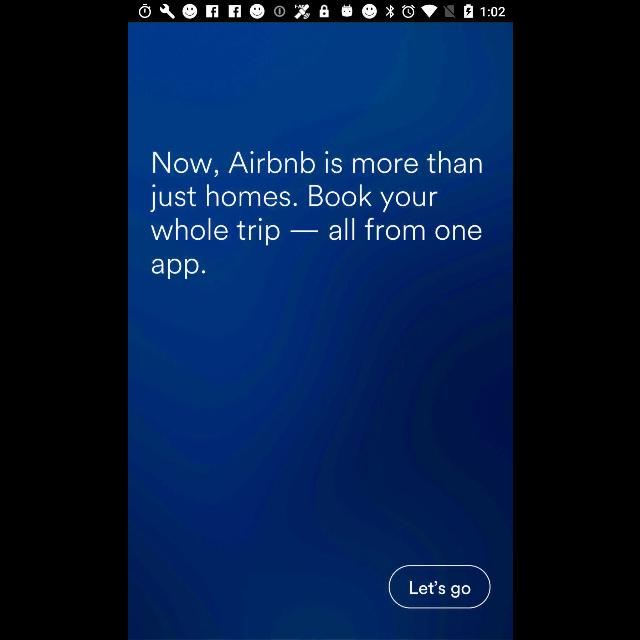text: (149, 151, 481, 279)
textbutton: (388, 565, 490, 609)
uppertaskbar: (128, 1, 512, 23)
